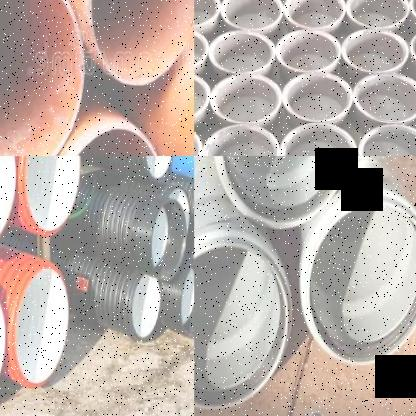pipe: (303, 191, 416, 365), (194, 230, 291, 410), (0, 0, 83, 156), (214, 156, 354, 229), (90, 0, 194, 86), (13, 266, 69, 387), (25, 156, 80, 236), (210, 72, 282, 124), (282, 72, 354, 122), (54, 126, 166, 156), (352, 71, 416, 123), (150, 198, 187, 284), (340, 29, 410, 73), (208, 30, 276, 74), (276, 29, 341, 73), (279, 121, 357, 156), (200, 124, 280, 156), (220, 0, 283, 31), (357, 123, 416, 156), (131, 274, 162, 336), (345, 0, 410, 29), (283, 0, 346, 29), (0, 156, 17, 252), (176, 266, 194, 330), (194, 71, 210, 123), (0, 286, 6, 411), (194, 0, 220, 28), (194, 26, 209, 72), (144, 156, 173, 179), (408, 25, 416, 72), (408, 0, 416, 27)
